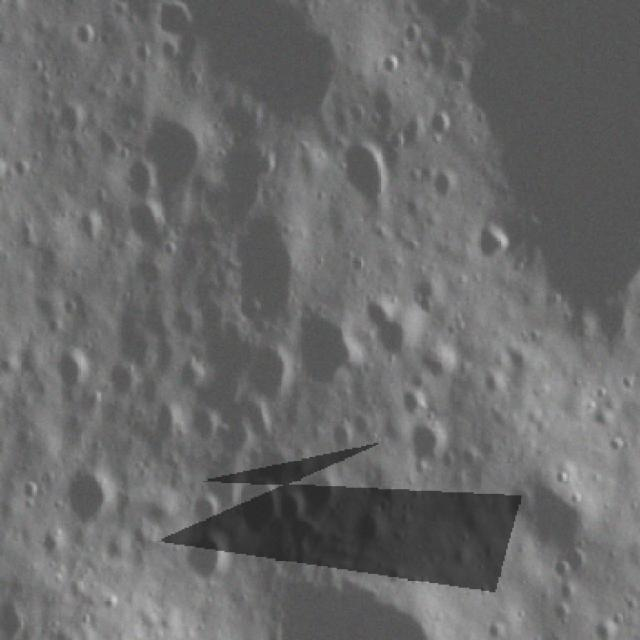crater: (268, 578, 458, 640), (514, 474, 606, 588), (224, 215, 310, 334), (285, 319, 369, 401), (142, 108, 209, 210), (217, 135, 275, 237), (54, 460, 121, 540), (336, 130, 396, 219), (358, 287, 427, 359), (105, 298, 160, 384), (240, 348, 305, 412), (176, 530, 238, 587), (115, 199, 171, 258), (42, 343, 92, 409), (232, 475, 282, 539), (296, 465, 346, 526), (407, 421, 456, 476), (44, 100, 93, 151), (182, 482, 228, 535), (468, 219, 517, 267), (425, 160, 467, 214), (152, 0, 199, 46), (182, 398, 218, 453), (390, 382, 432, 428), (152, 396, 186, 452), (420, 105, 462, 147), (374, 46, 408, 86), (67, 15, 99, 56)
